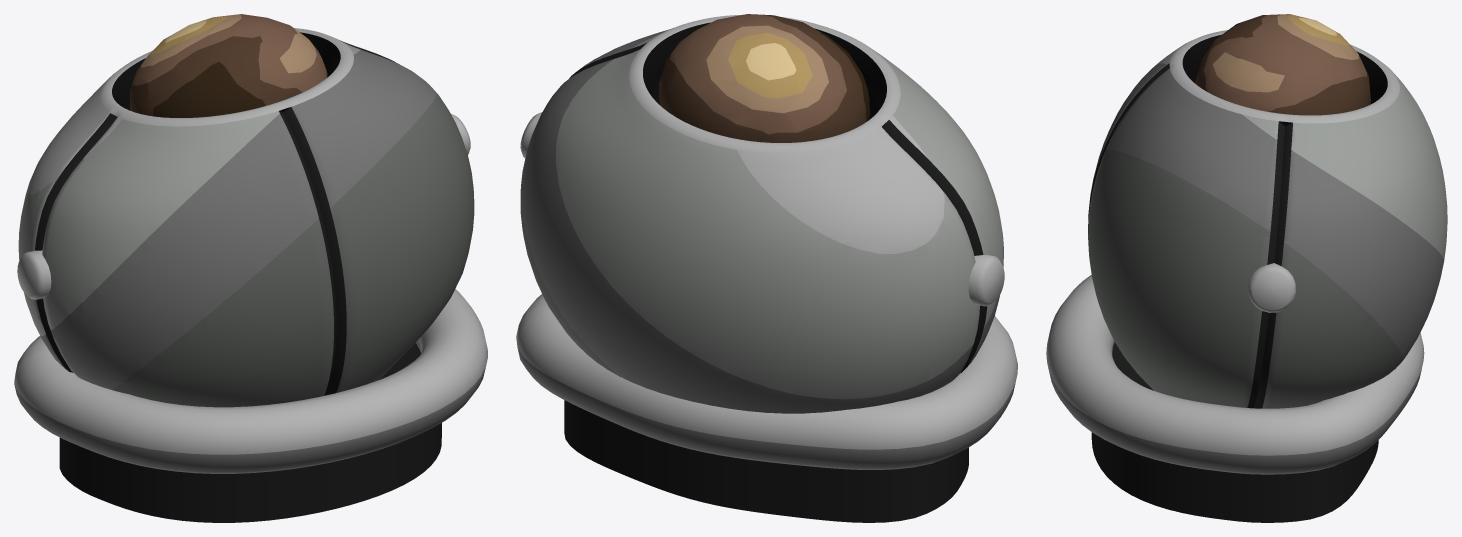
Rendered from eye_orb_121.glb.
3 renders of one model, left to right at view 1: azimuth 30°, elevation 25°; view 2: azimuth 150°, elevation 25°; view 3: azimuth 270°, elevation 25°, orthographic. The views are drawn at different scales.
Parts seen in each view (by area): view 1: shell, rim, foot, eye, boss-1; view 2: shell, rim, eye, foot, boss-1; view 3: shell, rim, eye, foot, boss1.
Part boxes in pixels (x1,y1,x2,y2): shell: (18,28,474,407); rim: (14,289,487,473); foot: (59,343,441,522); eye: (130,14,327,117); boss-1: (17,250,51,299); shell: (520,15,1003,413); rim: (516,294,1017,469); eye: (659,14,869,142); foot: (564,400,968,522); boss-1: (968,254,1004,306); shell: (1088,30,1447,408); rim: (1046,275,1424,474); eye: (1195,14,1370,115); foot: (1091,342,1378,522); boss1: (1248,263,1295,312).
Bounding box in the file's own units: 22.03 × 19.91 × 17.65.
